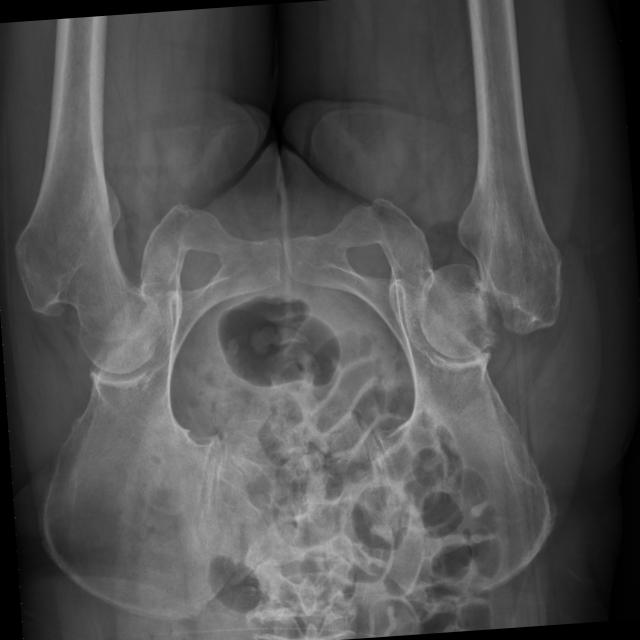normal-left: (13, 14, 160, 372)
right-neck: (457, 100, 562, 333), (415, 263, 498, 357)
